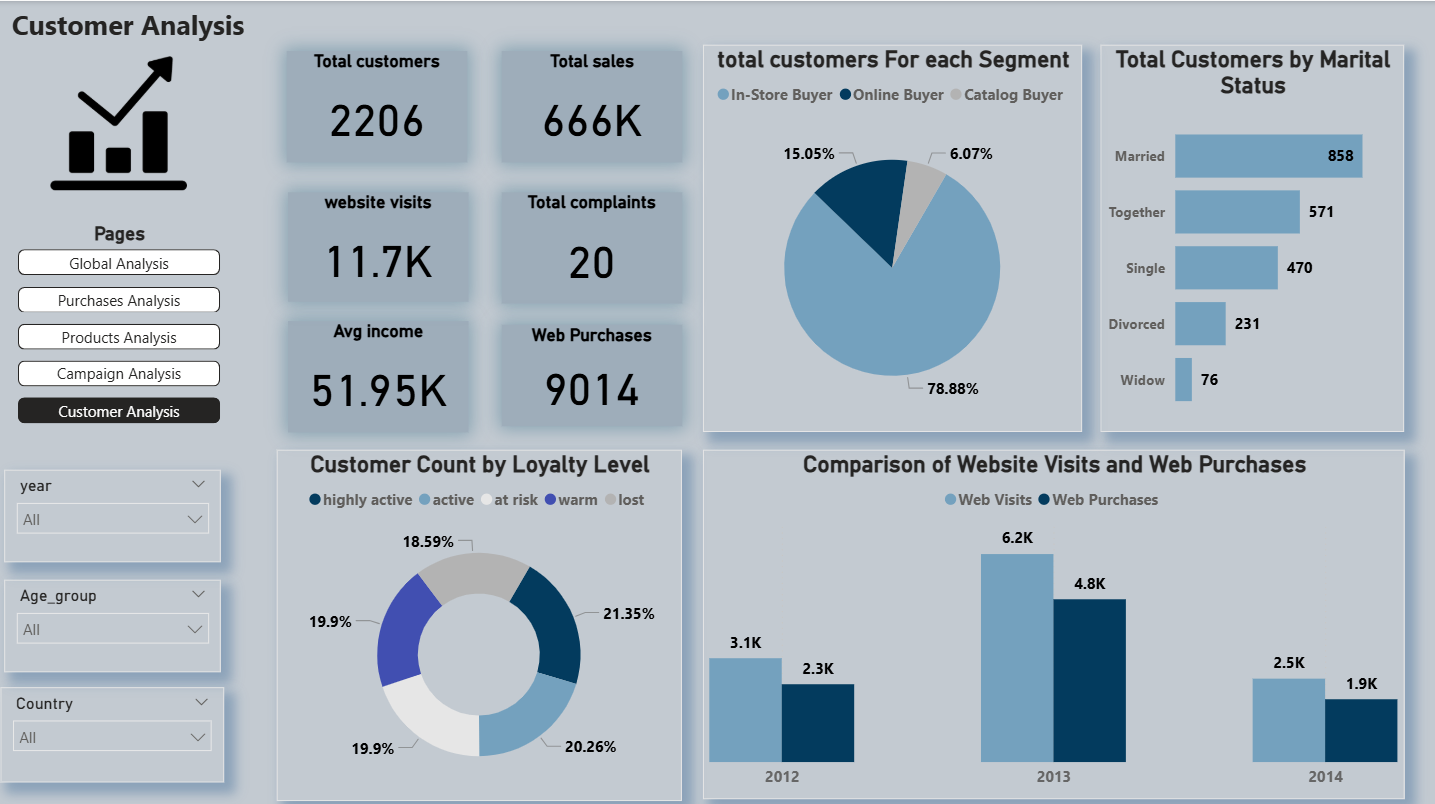

The page's visual inventory and layout, read from the dashboard file:
{"tool":"powerbi","page":{"name":"Customer Analysis","canvas":[1280,720],"ordinal":4},"visuals":[{"type":"pageNavigator","title":"Pages","box":[18.1,196.6,181,182.2],"z":0},{"type":"slicer","fields":{"Values":["DATA DIM.year"]},"box":[6,417.4,193,82],"z":1000},{"type":"slicer","fields":{"Values":["marketing_table.Age_group"]},"box":[6,515.2,193,82],"z":2000},{"type":"slicer","fields":{"Values":["marketing_table.Country"]},"box":[2.4,611.7,199.1,84.5],"z":3000},{"type":"textbox","box":[0,0,231.6,188.2],"z":4000},{"type":"image","box":[32.6,44.6,150.8,129.1],"z":5000},{"type":"card","title":"Avg income ","fields":{"Values":["dax masuers.Avg_income for customers"]},"box":[258.2,284.7,161,99],"z":6000},{"type":"card","title":"Total customers","fields":{"Values":["dax masuers.total_customers"]},"box":[257,44.6,160.5,98.9],"z":7000},{"type":"card","title":"Total complaints","fields":{"Values":["dax masuers.Total complaints"]},"box":[448.8,170.1,160.5,98.9],"z":8000},{"type":"card","title":"website visits","fields":{"Values":["dax masuers.Total website visits"]},"box":[258.2,170.1,160.5,97.7],"z":9000},{"type":"barChart","title":" Total Customers by Marital Status","fields":{"Category":["marketing_table.Marital_Status"],"Y":["dax masuers.total_customers"]},"box":[982,38.6,270.2,345],"z":10000},{"type":"pieChart","title":"total customers For each Segment","fields":{"Category":["Behavioral_Segmentation.PurchaseChannelSegment"],"Y":["dax masuers.total_customers"]},"box":[627.3,38.6,337.8,345],"z":11000},{"type":"card","title":"Total sales","fields":{"Values":["dax masuers.total_sales"]},"box":[448.8,44.6,161,99],"z":12000},{"type":"card","title":"Web Purchases","fields":{"Values":["Sum(marketing_table.NumWebPurchases)"]},"box":[448.8,288.3,160.5,90.5],"z":13000},{"type":"donutChart","title":"Customer Count by Loyalty Level","fields":{"Y":["dax masuers.total_customers"],"Category":["marketing_table.Recency_Segment"]},"box":[248.5,399.3,360.7,312.5],"z":14000},{"type":"lineClusteredColumnComboChart","title":"Comparison of Website Visits and Web Purchases","fields":{"Category":["DATA DIM.year"],"Y":["Sum(marketing_table.NumWebVisitsMonth)","Sum(marketing_table.NumWebPurchases)"]},"box":[627.3,399.3,624.9,311.3],"z":14001}]}

Visuals, with their boxes in screenshot pixels (x1, y1, x2, y2), scaled from the page's 1280x720 canvas onto the 1435x804 screenshot:
"Pages" pageNavigator: locate(20, 220, 223, 423)
slicer - DATA DIM.year: locate(7, 466, 223, 558)
slicer - marketing_table.Age_group: locate(7, 575, 223, 667)
slicer - marketing_table.Country: locate(3, 683, 226, 777)
textbox: locate(0, 0, 260, 210)
image: locate(37, 50, 206, 194)
"Avg income " card: locate(289, 318, 470, 428)
"Total customers" card: locate(288, 50, 468, 160)
"Total complaints" card: locate(503, 190, 683, 300)
"website visits" card: locate(289, 190, 469, 299)
" Total Customers by Marital Status" barChart: locate(1101, 43, 1404, 428)
"total customers For each Segment" pieChart: locate(703, 43, 1082, 428)
"Total sales" card: locate(503, 50, 684, 160)
"Web Purchases" card: locate(503, 322, 683, 423)
"Customer Count by Loyalty Level" donutChart: locate(279, 446, 683, 795)
"Comparison of Website Visits and Web Purchases" lineClusteredColumnComboChart: locate(703, 446, 1404, 794)
